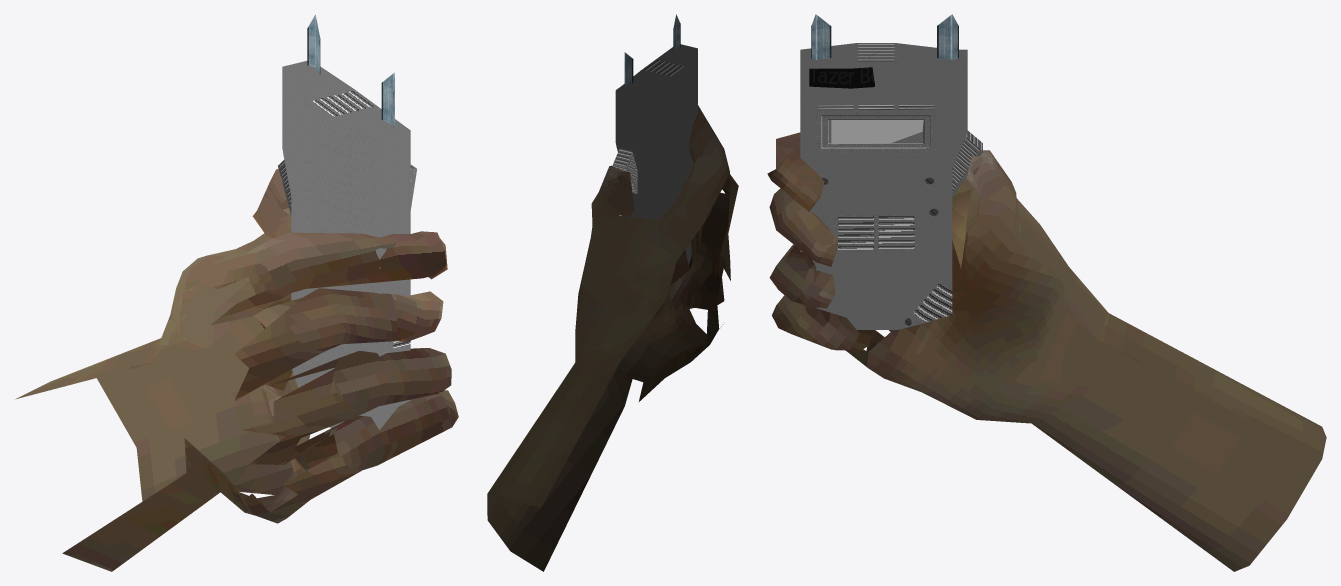
The model's file is GtaserZ.obj.
3 views of the same model, side by side, from view 1: azimuth 30°, elevation 25°; view 2: azimuth 150°, elevation 25°; view 3: azimuth 270°, elevation 25° (orthographic). The views are drawn at different scales.
Bounding box in the file's own units: 79 × 288 × 254.
